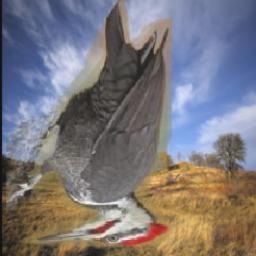Woodpecker: (7, 0, 173, 246)
